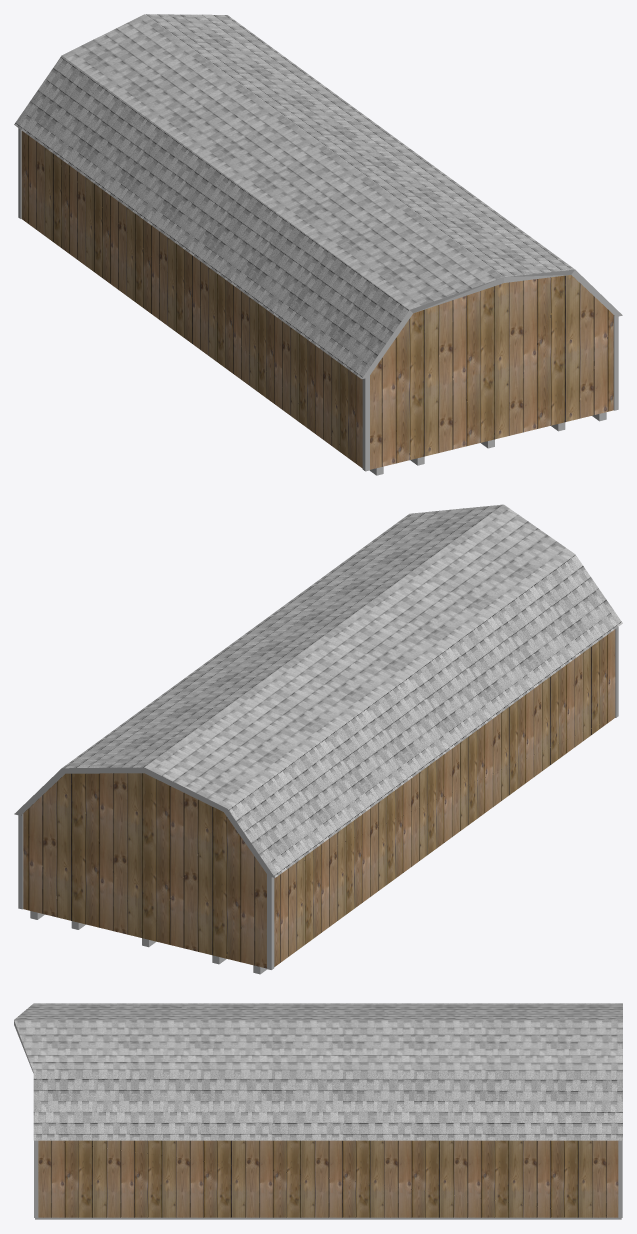
Rendered from Mini Barn Sheds_12x28.obj.
3 renders of one model, top to bottom at view 1: azimuth 30°, elevation 25°; view 2: azimuth 150°, elevation 25°; view 3: azimuth 270°, elevation 25°, orthographic. The views are drawn at different scales.
Parts seen in each view (by area): view 1: Roof, Shed, Sides, Trim; view 2: Roof, Shed, Sides, Trim; view 3: Roof, Shed, Floor, Trim.
Boxes of the visible parts, bbox=[...] form: Roof: bbox=[14, 14, 574, 378]; Shed: bbox=[21, 131, 614, 469]; Sides: bbox=[362, 269, 622, 378]; Trim: bbox=[18, 128, 618, 471]; Roof: bbox=[62, 504, 622, 877]; Shed: bbox=[21, 629, 615, 968]; Sides: bbox=[14, 767, 274, 877]; Trim: bbox=[18, 627, 618, 969]; Roof: bbox=[14, 1003, 622, 1140]; Shed: bbox=[38, 1140, 618, 1217]; Floor: bbox=[35, 1217, 621, 1219]; Trim: bbox=[34, 1140, 622, 1217].
Bounding box in the file's own units: 3.72 × 2.44 × 8.86.
